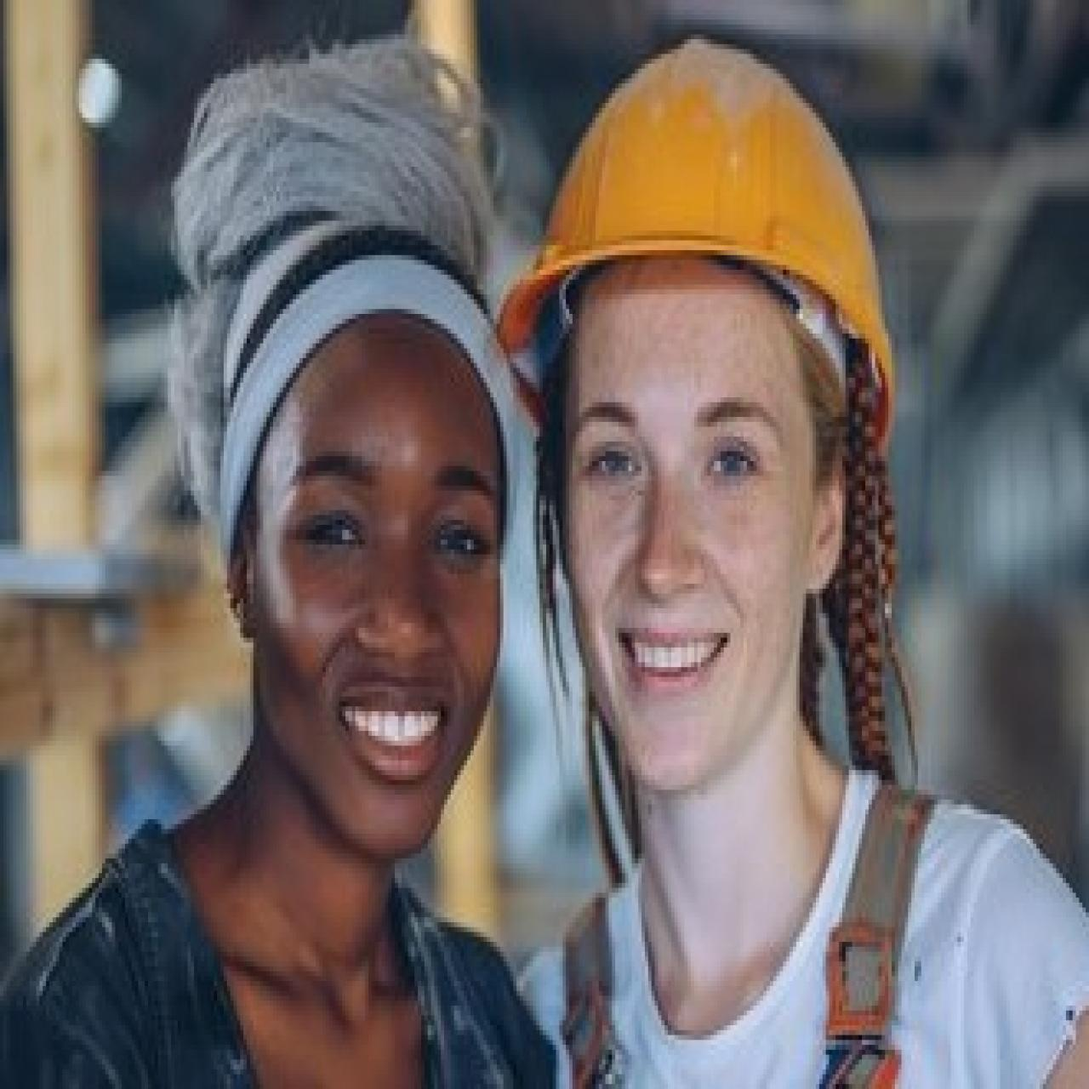NO_Safety_Vest: (543, 819, 997, 1089), (71, 852, 484, 1089)
Person: (471, 40, 1088, 1089), (33, 44, 566, 1089)
